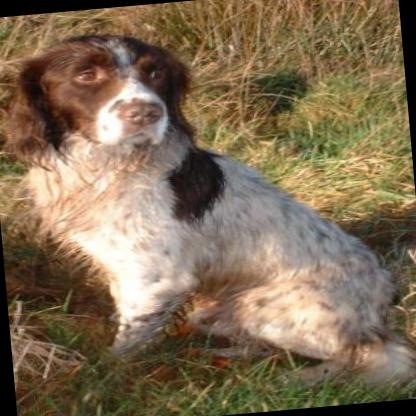Sussex_spaniel: (0, 7, 416, 413)
